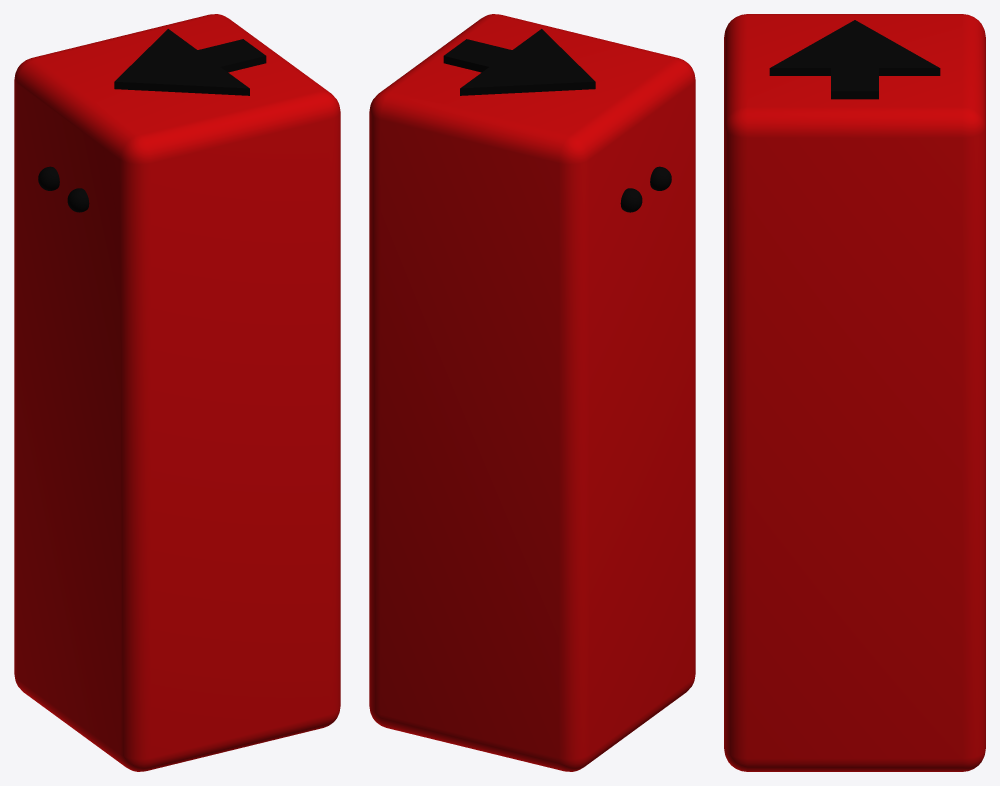
3 renders of one model, left to right at view 1: azimuth 30°, elevation 25°; view 2: azimuth 150°, elevation 25°; view 3: azimuth 270°, elevation 25°, orthographic. The views are drawn at different scales.
Visible parts, largest first — view 1: Cube.018_Cube.002_Material.002, Cube.018_Cube.002_SVGMat; view 2: Cube.018_Cube.002_Material.002, Cube.018_Cube.002_SVGMat; view 3: Cube.018_Cube.002_Material.002, Cube.018_Cube.002_SVGMat.
Boxes of the visible parts, x1=… form: Cube.018_Cube.002_Material.002: x1=14, y1=14, x2=340, y2=771; Cube.018_Cube.002_SVGMat: x1=38, y1=29, x2=266, y2=212; Cube.018_Cube.002_Material.002: x1=369, y1=14, x2=695, y2=771; Cube.018_Cube.002_SVGMat: x1=443, y1=29, x2=671, y2=212; Cube.018_Cube.002_Material.002: x1=724, y1=14, x2=985, y2=771; Cube.018_Cube.002_SVGMat: x1=769, y1=20, x2=940, y2=99.
Size of the model in its own units: 0.1904 by 0.5061 by 0.1785.
